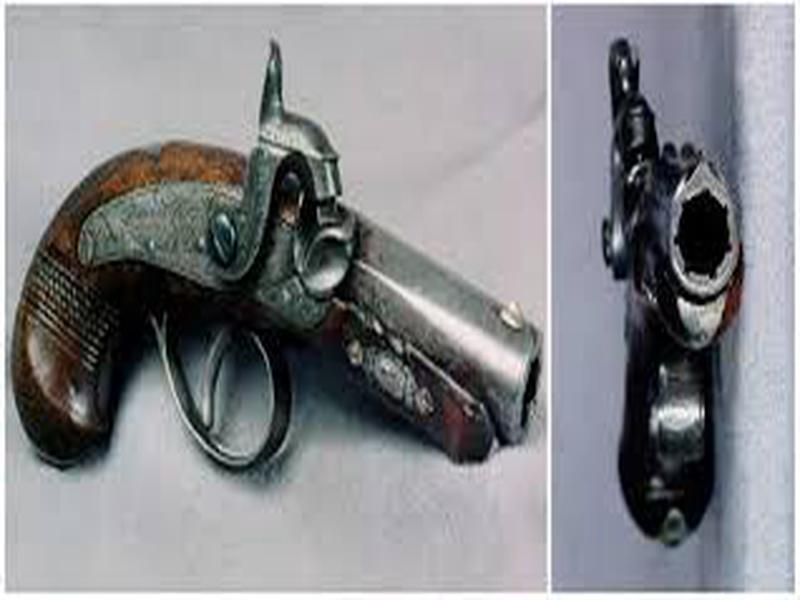gun: (12, 33, 543, 479)
